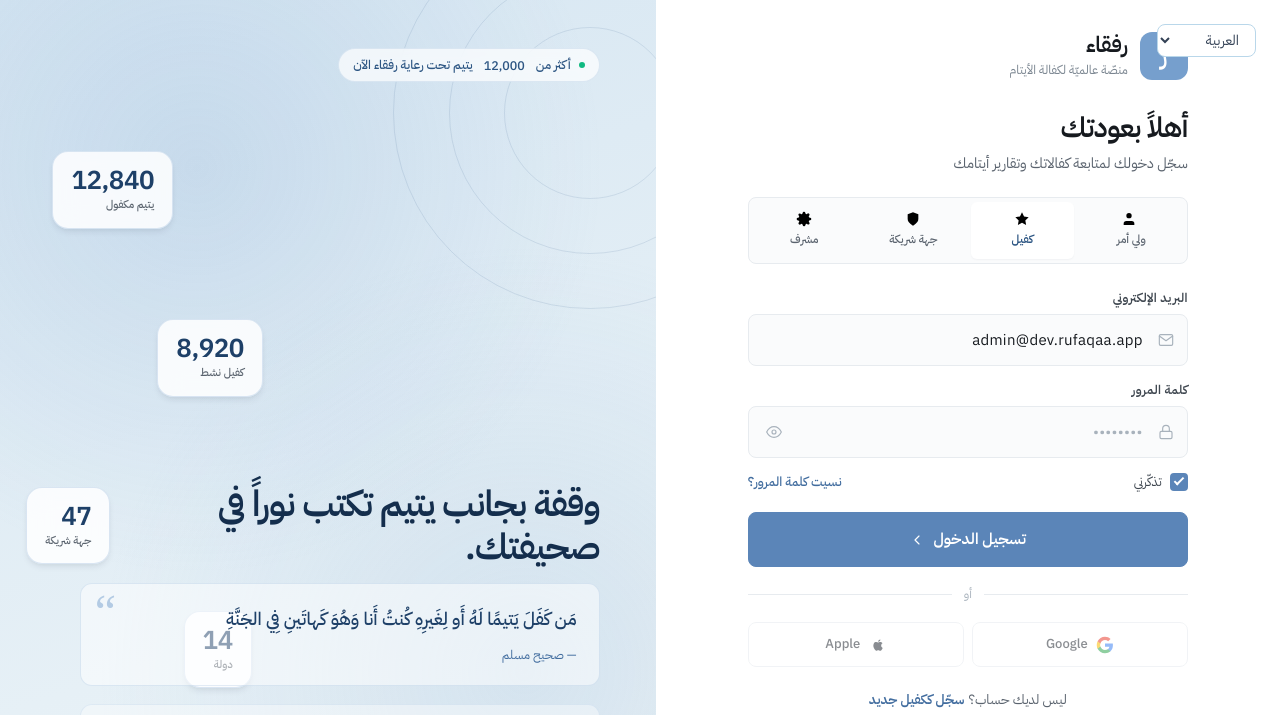
Test: LoginPage › shows validation errors for short password
This screenshot has width=1280, height=715.
Step 1. Replace the text in the field labelled "البريد الإلكتروني" with "admin@example.com" → (968, 340), box [748, 314, 1188, 366]
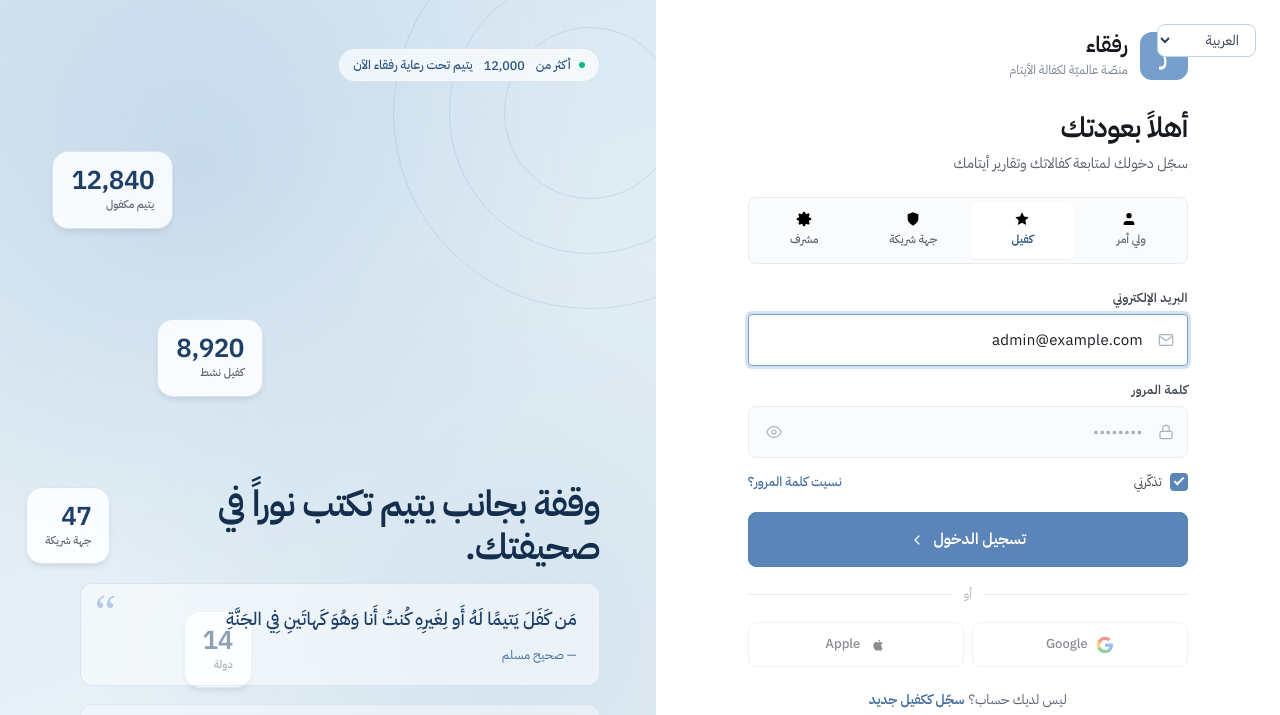
Step 2. Type "short" into the password field labelled "كلمة المرور" → (968, 432), box [748, 406, 1188, 458]
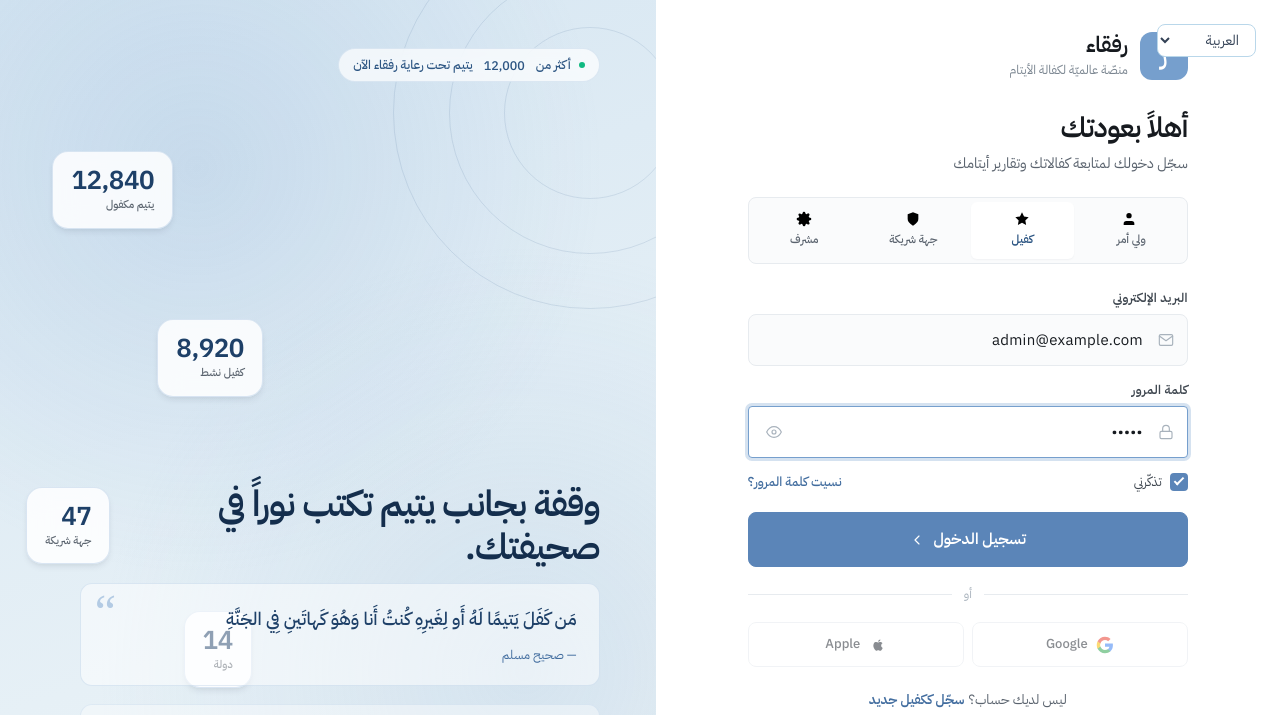
Step 3. Click the button "تسجيل الدخول" → (968, 540), box [748, 512, 1188, 567]
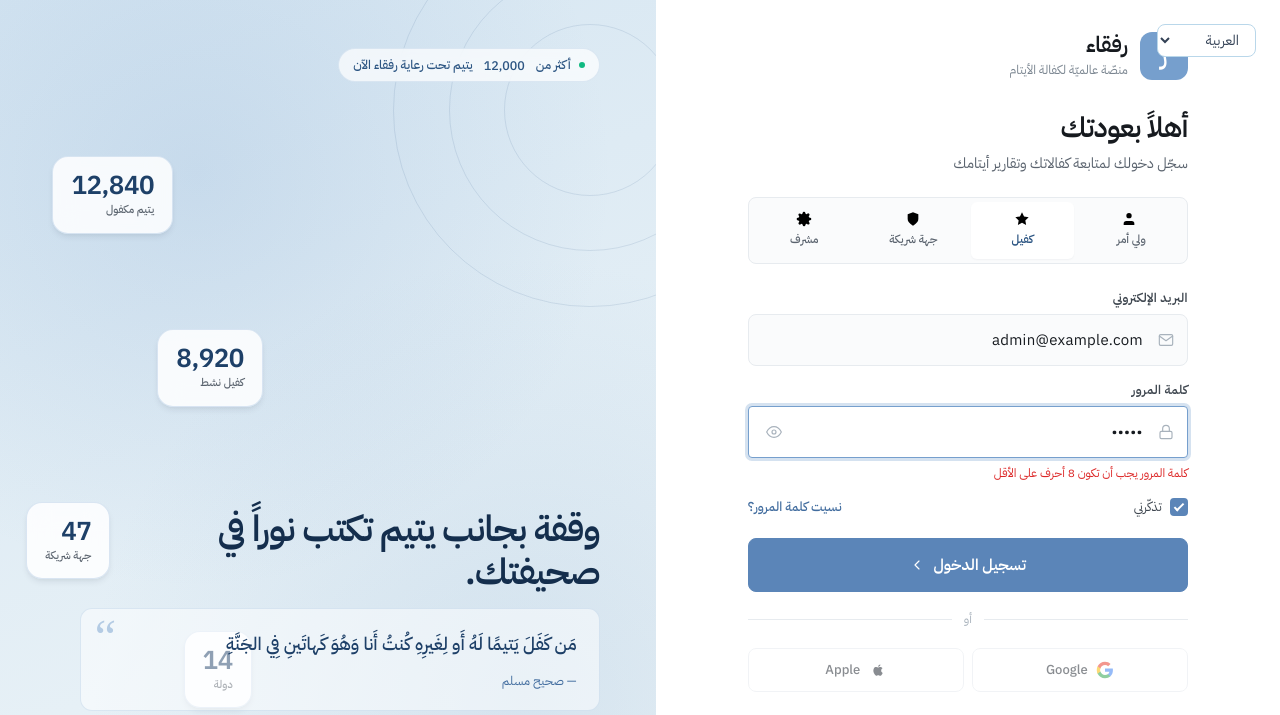
Result: the text "كلمة المرور يجب أن تكون 8 أحرف على الأقل" is shown at [994, 464, 1188, 482]
